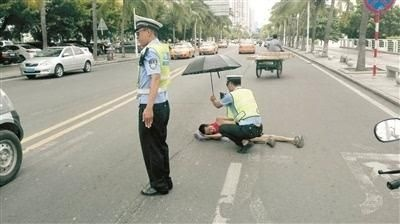falling: (189, 111, 303, 155)
